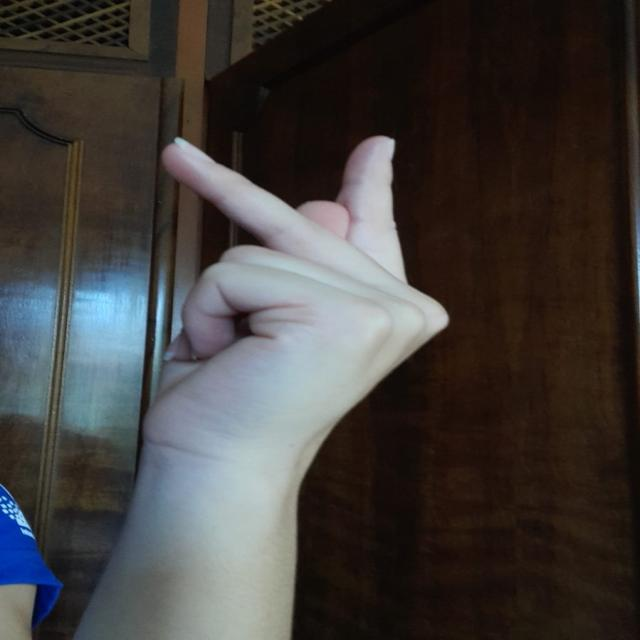K: (132, 106, 452, 436)
